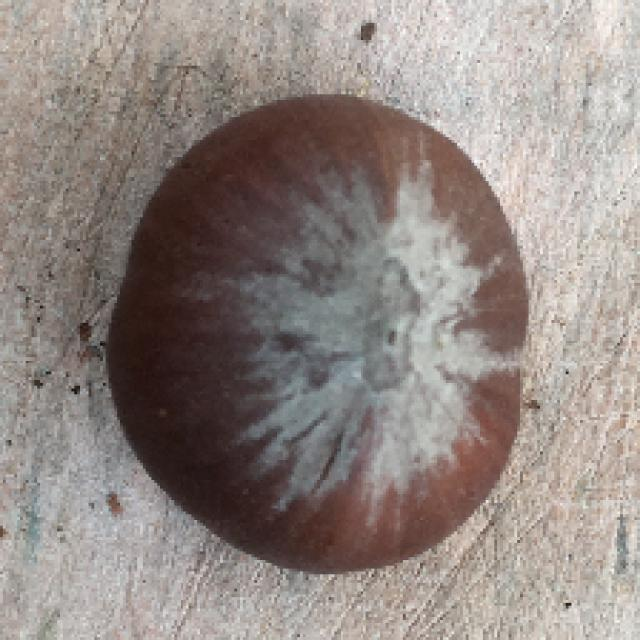qualityHazelnut: (119, 97, 540, 578)
